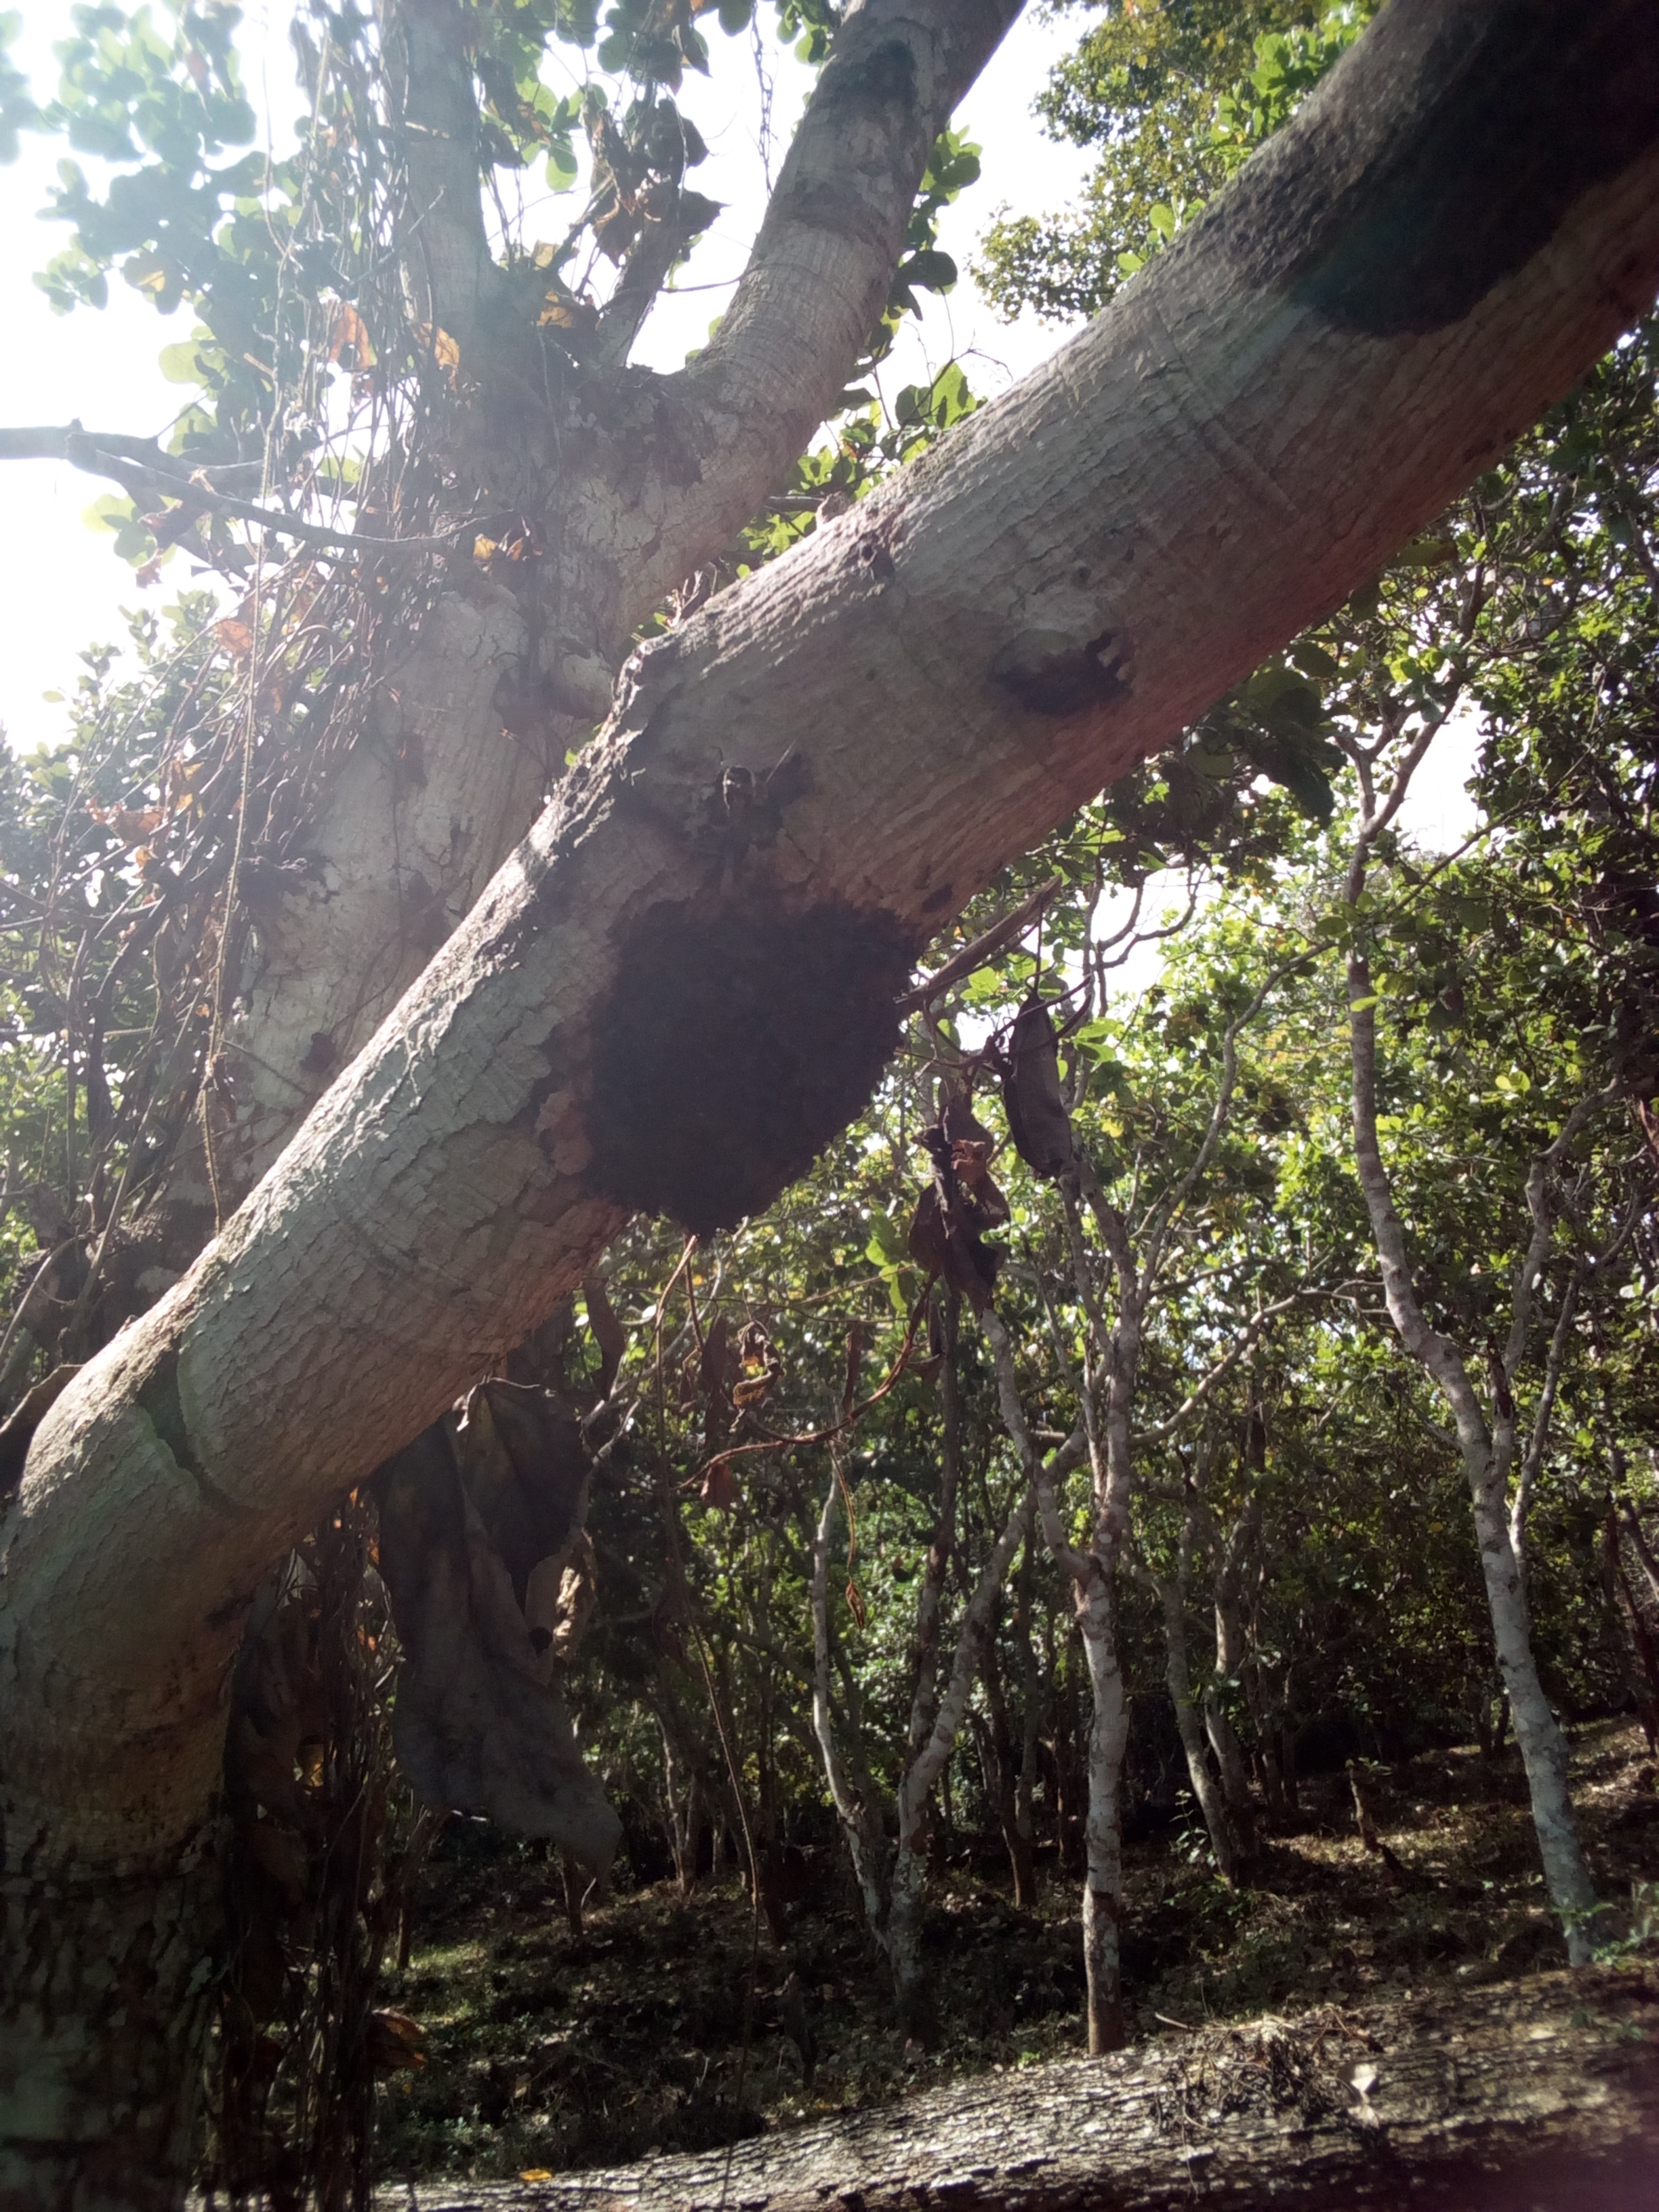Termites: (575, 902, 911, 1238)
